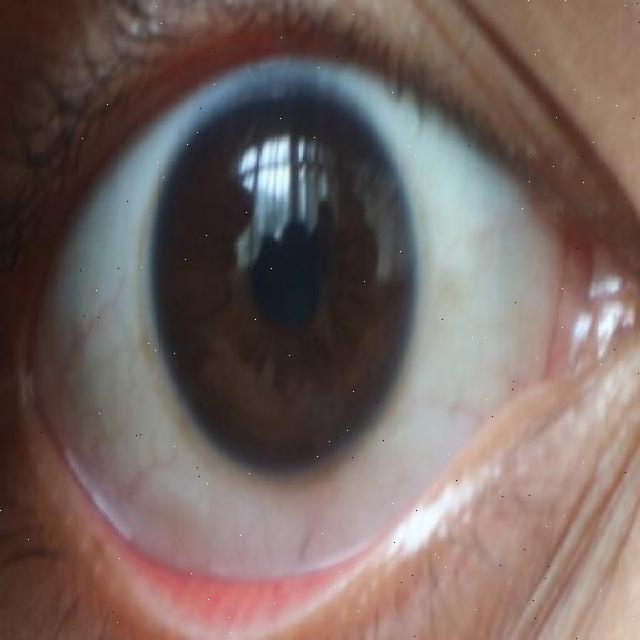Normal: (151, 86, 421, 472)
